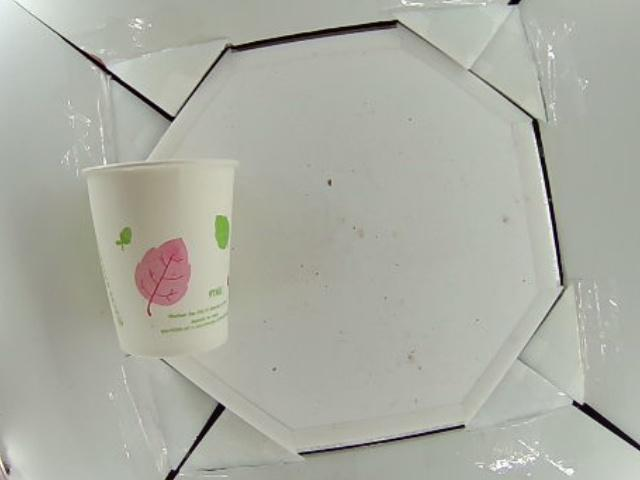Cup: (84, 156, 237, 359)
